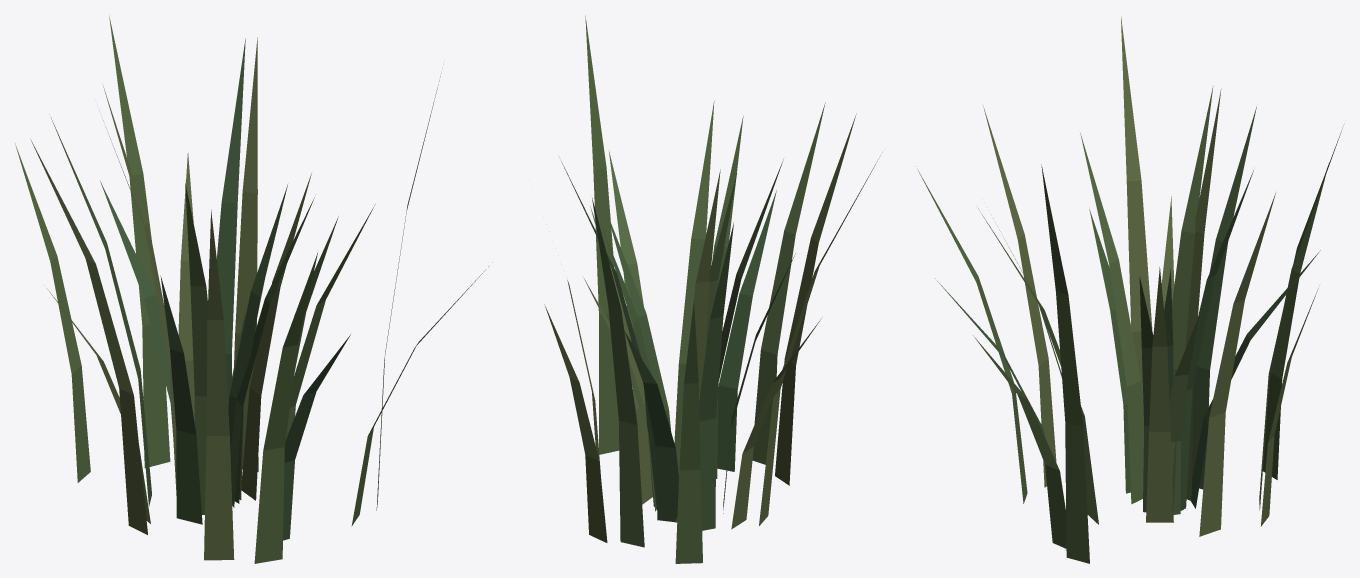
The model's file is ground_grass_a.glb.
3 views of the same model, side by side, from view 1: azimuth 30°, elevation 25°; view 2: azimuth 150°, elevation 25°; view 3: azimuth 270°, elevation 25° (orthographic). The views are drawn at different scales.
Visible parts, largest first — view 1: ground_grass_a; view 2: ground_grass_a; view 3: ground_grass_a.
Part boxes in pixels (x1,y1,x2,y2): ground_grass_a: (15, 16, 492, 563); ground_grass_a: (544, 15, 882, 563); ground_grass_a: (917, 17, 1343, 563).
Size of the model in its own units: 0.3532 by 0.3977 by 0.3698.
